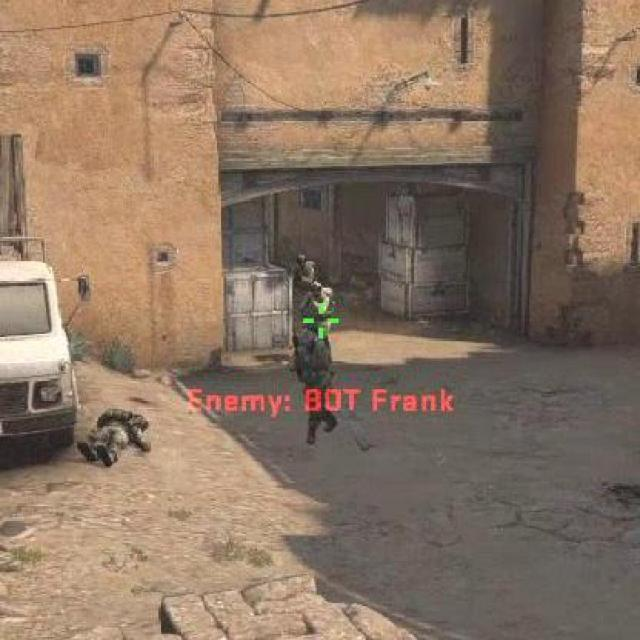CT: (292, 330, 334, 428), (302, 283, 332, 334), (292, 252, 314, 291)
CT_HEAD: (298, 331, 318, 351), (308, 284, 324, 300), (297, 250, 306, 264)
